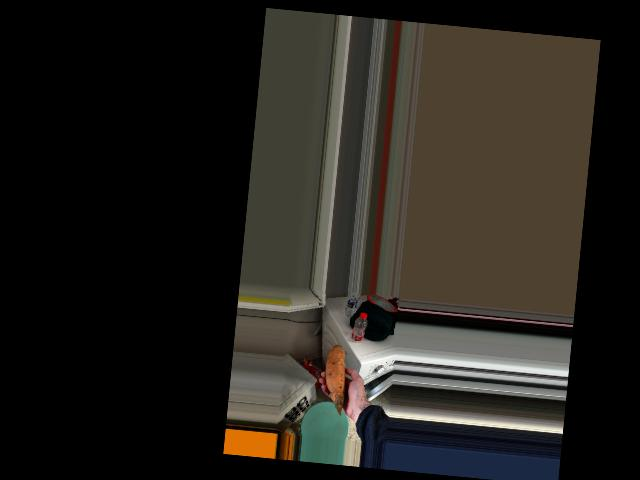sweet_potato: (320, 345, 349, 405)
